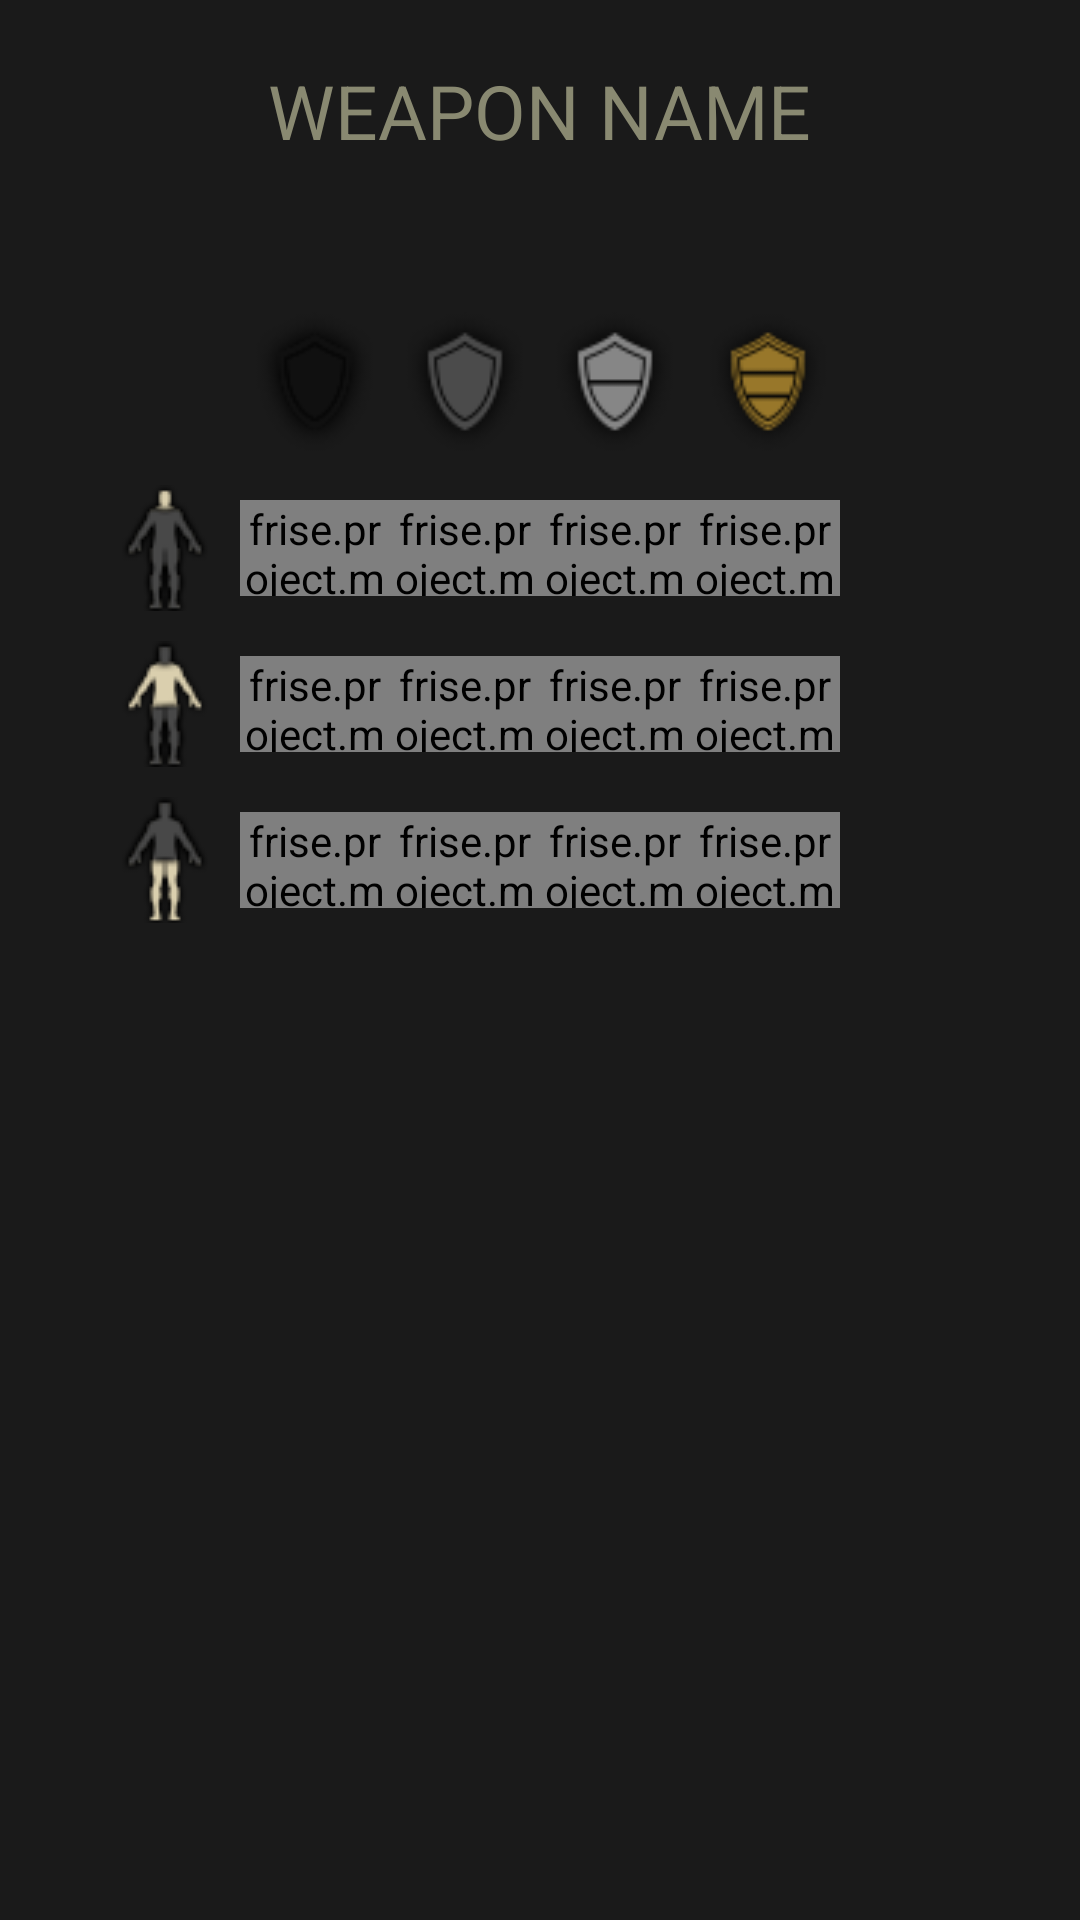

Named icons in this screenshot (1080px x 1920px) and their bounding boxes, BBox(x1, y1, x2, y2):
thumbnail body chest: BBox(128, 648, 202, 764)
thumbnail body head: BBox(129, 490, 201, 608)
thumbnail body legs: BBox(129, 804, 201, 921)
thumbnail tier: BBox(731, 332, 805, 431), BBox(578, 333, 652, 431), BBox(428, 334, 501, 430)
